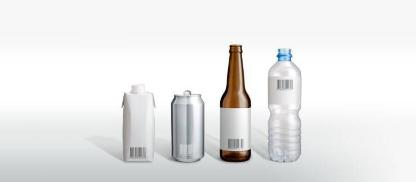Can: (171, 95, 205, 164)
Glass Bottle: (218, 45, 252, 163)
Others: (120, 82, 156, 162)
Plastic Bottle: (266, 44, 304, 162)
